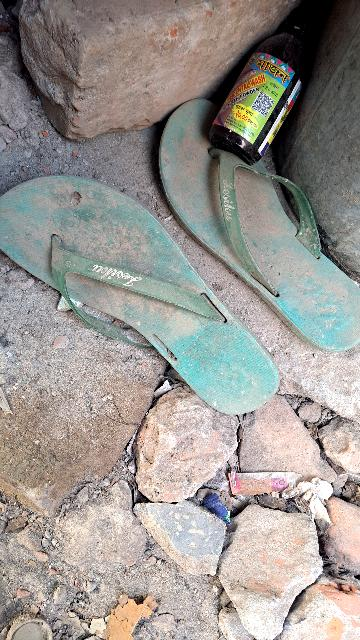sandal: (0, 156, 294, 462), (114, 79, 360, 371)
